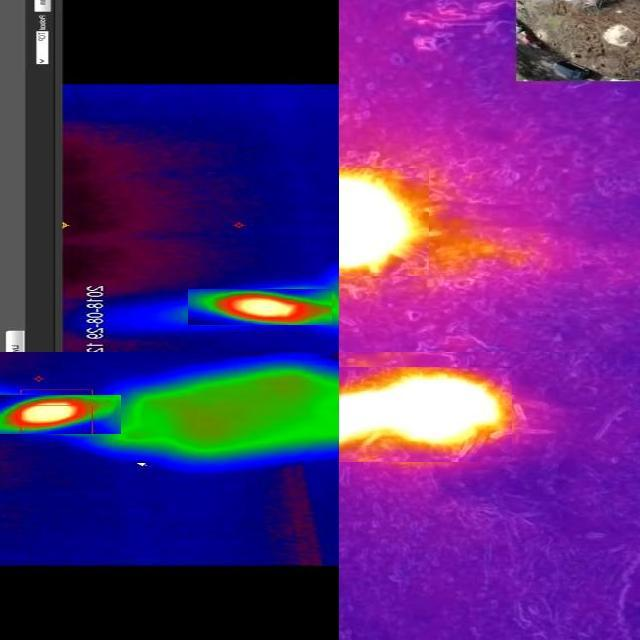fire: (340, 368, 512, 463), (340, 169, 429, 277), (188, 290, 332, 326), (1, 396, 121, 435)
